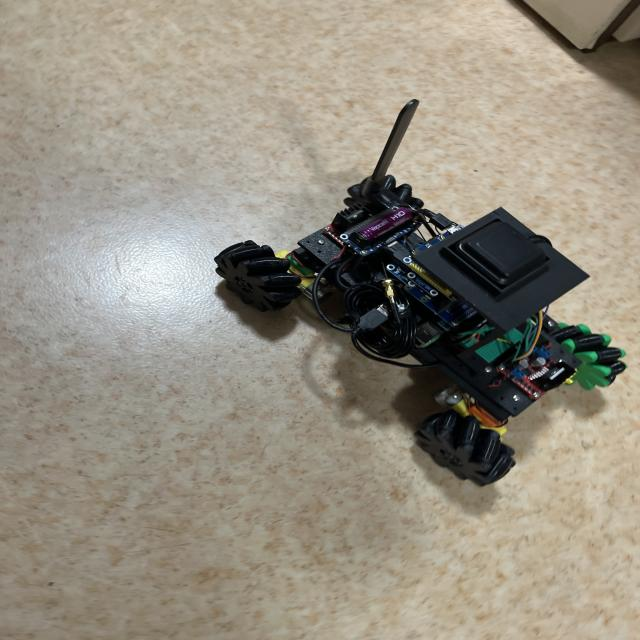robot: (215, 100, 626, 485)
